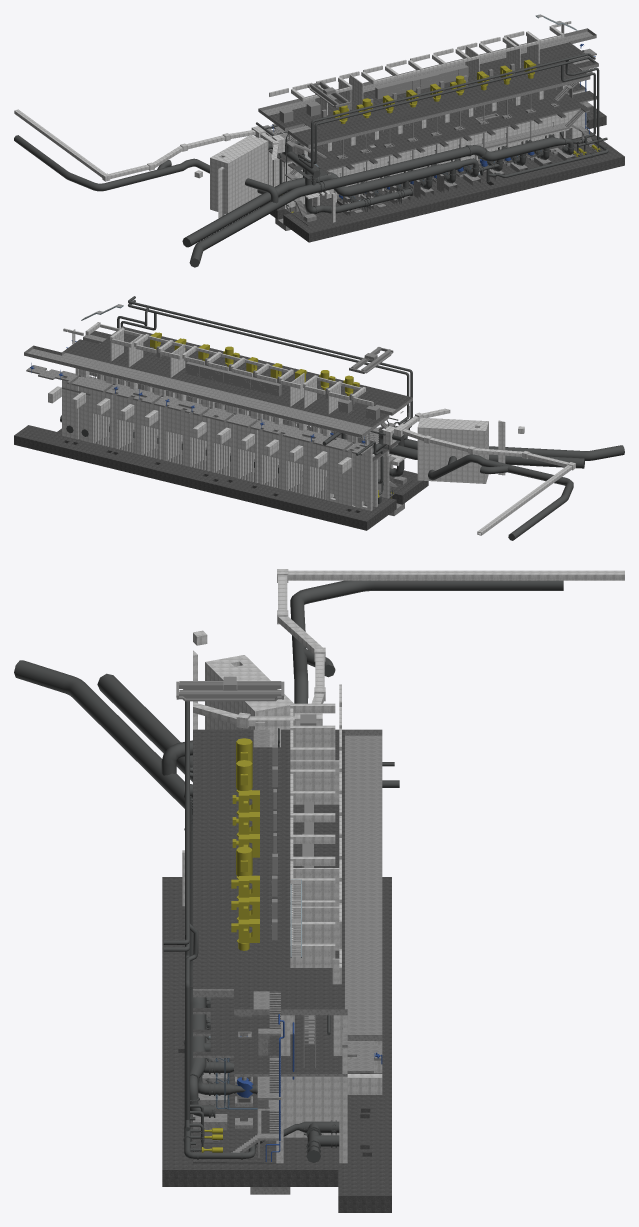
Rendered from TWFWPS_SNSB_3.glb.
The picture shows the model from 3 angles, top to bottom: view 1: azimuth 30°, elevation 25°; view 2: azimuth 150°, elevation 25°; view 3: azimuth 270°, elevation 25°; orthographic projection. The views are drawn at different scales.
Visible parts, largest first — view 1: Material #522, JinShu_050, Material #525, Material #523, JinShu_053, Group001; view 2: Material #525, Material #522, Material #523, JinShu_050, JinShu_053; view 3: Material #522, Material #525, Material #523, JinShu_050, JinShu_053, Group001.
Boxes of the visible parts, left/top/right/bottom form: Material #522: left=268, top=42, right=624, bottom=242; JinShu_050: left=14, top=50, right=608, bottom=267; Material #525: left=14, top=21, right=586, bottom=222; Material #523: left=258, top=28, right=598, bottom=230; JinShu_053: left=274, top=63, right=569, bottom=153; Group001: left=334, top=127, right=549, bottom=202; Material #525: left=48, top=322, right=575, bottom=535; Material #522: left=14, top=327, right=428, bottom=530; Material #523: left=24, top=326, right=412, bottom=515; JinShu_050: left=60, top=296, right=624, bottom=540; JinShu_053: left=90, top=346, right=393, bottom=445; Material #522: left=162, top=729, right=391, bottom=1212; Material #525: left=182, top=569, right=624, bottom=1163; Material #523: left=193, top=729, right=382, bottom=1194; JinShu_050: left=14, top=580, right=563, bottom=1162; JinShu_053: left=176, top=676, right=316, bottom=1067; Group001: left=198, top=997, right=257, bottom=1097.
Bounding box in the file's own units: 125 × 31.6 × 65.07.
Materials: 12 (8 with a texture image).
